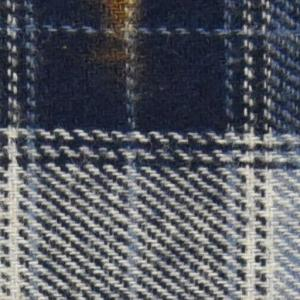Oil Stain: (76, 1, 153, 88)
